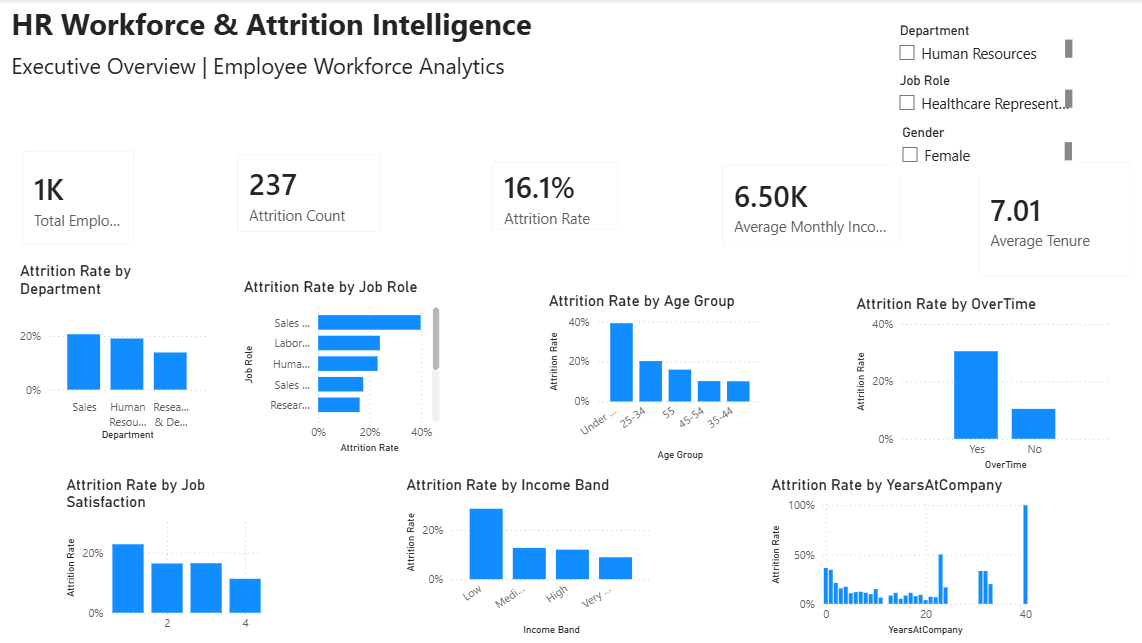

Layout of this report page (visuals, bound fields, positions):
{"tool":"powerbi","page":{"name":"Executive Overview","canvas":[1280,720],"ordinal":0},"visuals":[{"type":"textbox","box":[9.6,0,960.6,52.1],"z":0},{"type":"textbox","box":[9.6,52.1,568.1,45.3],"z":1000},{"type":"cardVisual","fields":{"Data":["EmployeeData.Total Employees"]},"box":[9.6,149.6,157.8,138.6],"z":2000},{"type":"cardVisual","fields":{"Data":["EmployeeData.Attrition Count"]},"box":[245.6,153.7,192.1,119.4],"z":3000},{"type":"cardVisual","fields":{"Data":["EmployeeData.Attrition Rate"]},"box":[525.6,161.9,172.9,109.8],"z":4000},{"type":"cardVisual","fields":{"Data":["EmployeeData.Average Monthly Income"]},"box":[778,164.7,230.5,123.5],"z":5000},{"type":"cardVisual","fields":{"Data":["EmployeeData.Average Tenure"]},"box":[1059.4,161.9,201.7,159.2],"z":6000},{"type":"clusteredColumnChart","fields":{"Category":["EmployeeData.Department"],"Y":["EmployeeData.Attrition Rate"]},"box":[19.2,288.2,214.1,201.7],"z":7000},{"type":"clusteredBarChart","fields":{"Category":["EmployeeData.Job Role"],"Y":["EmployeeData.Attrition Rate"]},"box":[264.8,306,225,197.6],"z":8000},{"type":"slicer","fields":{"Values":["EmployeeData.Department"]},"box":[977,20.6,207.2,54.9],"z":9000},{"type":"slicer","fields":{"Values":["EmployeeData.Job Role"]},"box":[977,75.5,207.2,57.6],"z":10000},{"type":"clusteredColumnChart","fields":{"Category":["EmployeeData.OverTime"],"Y":["EmployeeData.Attrition Rate"]},"box":[937.2,323.8,288.2,199],"z":11000},{"type":"clusteredColumnChart","fields":{"Category":["EmployeeData.Age Group"],"Y":["EmployeeData.Attrition Rate"]},"box":[599.7,321.1,244.3,190.7],"z":12000},{"type":"slicer","fields":{"Values":["EmployeeData.Gender"]},"box":[979.8,133.1,204.5,61.7],"z":13000},{"type":"clusteredColumnChart","fields":{"Category":["EmployeeData.Job Satisfaction"],"Y":["EmployeeData.Attrition Rate"]},"box":[70,522.8,223.7,181.1],"z":14000},{"type":"clusteredColumnChart","fields":{"Category":["EmployeeData.Income Band"],"Y":["EmployeeData.Attrition Rate"]},"box":[443.2,522.8,278.6,181.1],"z":15000},{"type":"clusteredColumnChart","fields":{"Category":["EmployeeData.YearsAtCompany"],"Y":["EmployeeData.Attrition Rate"]},"box":[843.9,522.8,296.4,181.1],"z":16000}]}

Visuals, with their boxes in screenshot pixels (x1, y1, x2, y2), scaled from the page's 1280x720 canvas onto the 1142x643 screenshot:
textbox: {"x1": 9, "y1": 0, "x2": 866, "y2": 47}
textbox: {"x1": 9, "y1": 47, "x2": 515, "y2": 87}
cardVisual - EmployeeData.Total Employees: {"x1": 9, "y1": 134, "x2": 149, "y2": 257}
cardVisual - EmployeeData.Attrition Count: {"x1": 219, "y1": 137, "x2": 391, "y2": 244}
cardVisual - EmployeeData.Attrition Rate: {"x1": 469, "y1": 145, "x2": 623, "y2": 243}
cardVisual - EmployeeData.Average Monthly Income: {"x1": 694, "y1": 147, "x2": 900, "y2": 257}
cardVisual - EmployeeData.Average Tenure: {"x1": 945, "y1": 145, "x2": 1125, "y2": 287}
clusteredColumnChart - EmployeeData.Department x EmployeeData.Attrition Rate: {"x1": 17, "y1": 257, "x2": 208, "y2": 438}
clusteredBarChart - EmployeeData.Job Role x EmployeeData.Attrition Rate: {"x1": 236, "y1": 273, "x2": 437, "y2": 450}
slicer - EmployeeData.Department: {"x1": 872, "y1": 18, "x2": 1057, "y2": 67}
slicer - EmployeeData.Job Role: {"x1": 872, "y1": 67, "x2": 1057, "y2": 119}
clusteredColumnChart - EmployeeData.OverTime x EmployeeData.Attrition Rate: {"x1": 836, "y1": 289, "x2": 1093, "y2": 467}
clusteredColumnChart - EmployeeData.Age Group x EmployeeData.Attrition Rate: {"x1": 535, "y1": 287, "x2": 753, "y2": 457}
slicer - EmployeeData.Gender: {"x1": 874, "y1": 119, "x2": 1057, "y2": 174}
clusteredColumnChart - EmployeeData.Job Satisfaction x EmployeeData.Attrition Rate: {"x1": 62, "y1": 467, "x2": 262, "y2": 629}
clusteredColumnChart - EmployeeData.Income Band x EmployeeData.Attrition Rate: {"x1": 395, "y1": 467, "x2": 644, "y2": 629}
clusteredColumnChart - EmployeeData.YearsAtCompany x EmployeeData.Attrition Rate: {"x1": 753, "y1": 467, "x2": 1017, "y2": 629}
